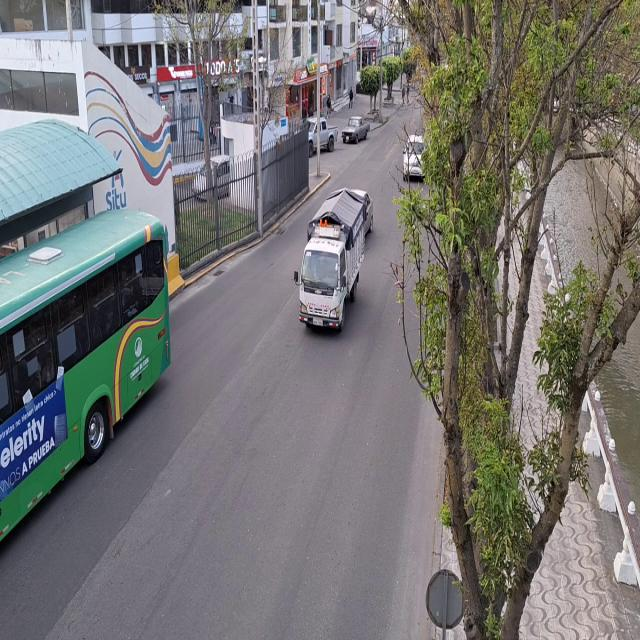BUS: (0, 208, 170, 550)
CMT: (310, 118, 338, 146), (342, 117, 370, 143)
TRUCK: (295, 191, 370, 334)
